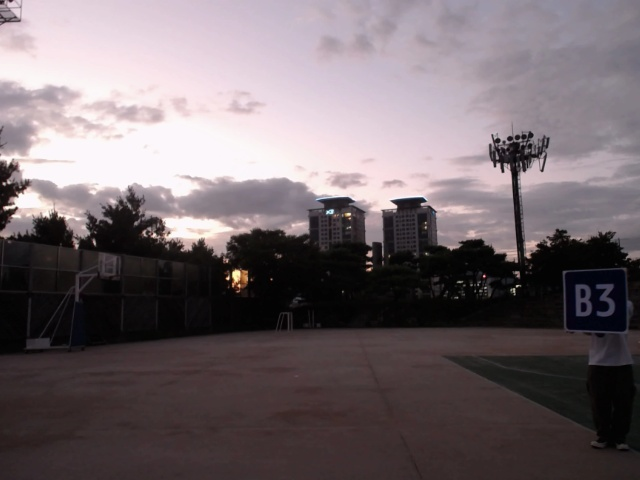delivery_b3: (563, 268, 628, 336)
